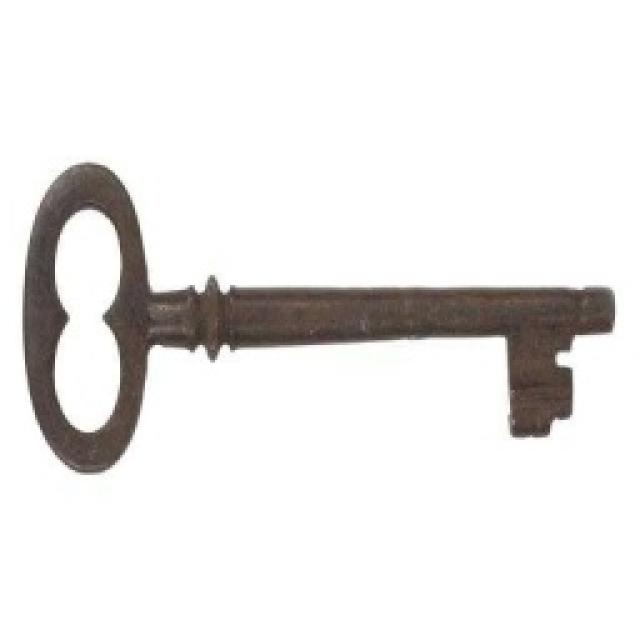anahtar: (2, 159, 620, 479)
